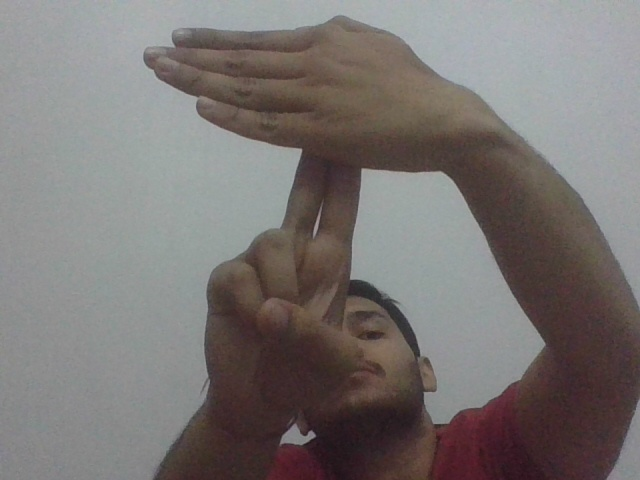N: (138, 13, 437, 230)
